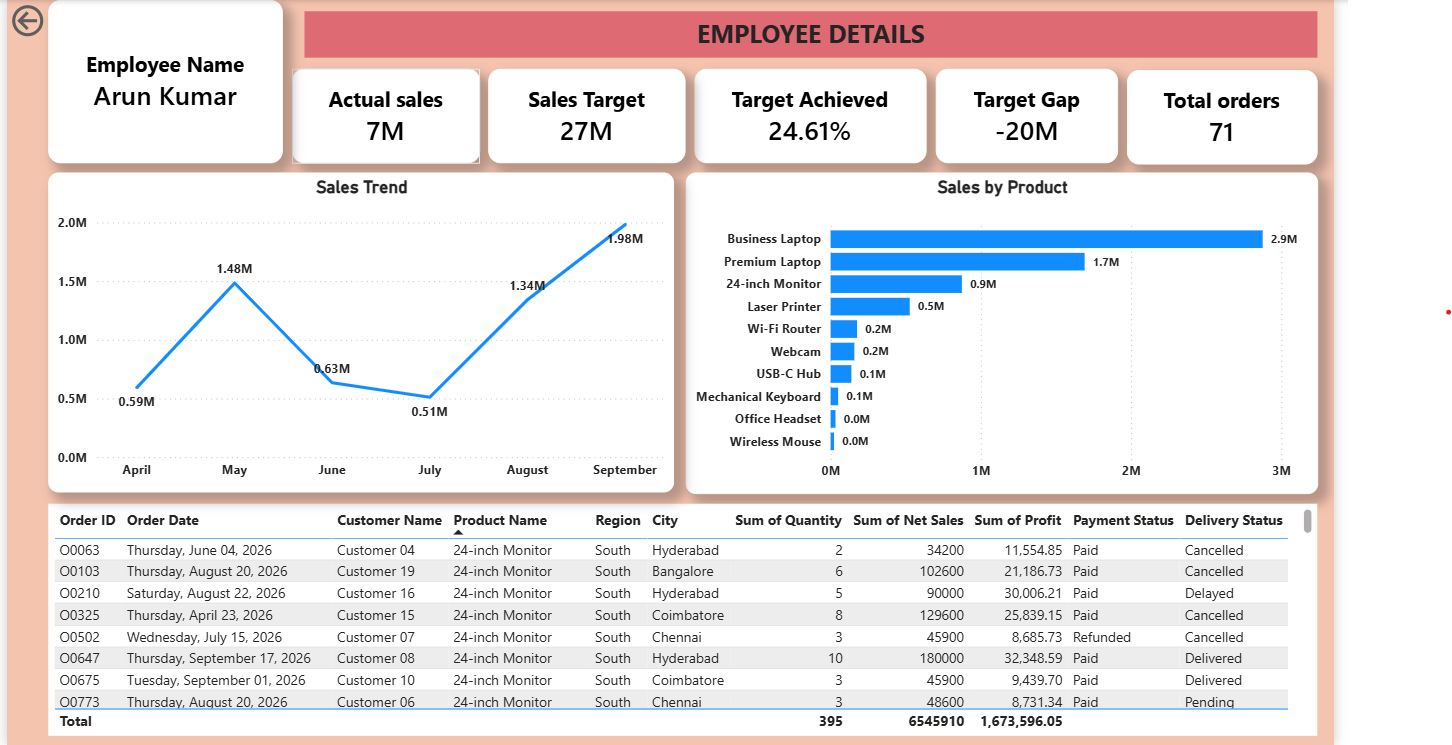

The dashboard page shown, as its layout file describes it:
{"tool":"powerbi","page":{"name":"Employee Details","canvas":[1280,720],"ordinal":4},"visuals":[{"type":"actionButton","box":[0,0,100,40],"z":0},{"type":"cardVisual","title":"NET SALES","fields":{"Data":["Measure.Actual sales"]},"box":[275,66.2,181.2,91.2],"z":1000},{"type":"cardVisual","title":"NET SALES","fields":{"Data":["Measure.Target Achievement %"]},"box":[663.8,66.2,223.8,91.2],"z":2000},{"type":"cardVisual","title":"NET SALES","fields":{"Data":["Measure.Total sales Target"]},"box":[465,66.2,190,91.2],"z":3000},{"type":"cardVisual","title":"NET SALES","fields":{"Data":["Measure.Target Gap"]},"box":[896.2,66.2,176.2,91.2],"z":4000},{"type":"cardVisual","title":"NET SALES","fields":{"Data":["Measure.Total orders"]},"box":[1081.2,67.5,183.8,91.2],"z":5000},{"type":"clusteredBarChart","title":"Sales by Product","fields":{"Category":["DimProduct.Product Name"],"Y":["Measure.Actual sales"]},"box":[655,166.2,610,310],"z":6000},{"type":"tableEx","fields":{"Values":["FactSales.Order ID","FactSales.Order Date","DimCustomer.Customer Name","DimProduct.Product Name","FactSales.Region","FactSales.City","Sum(FactSales.Quantity)","Sum(FactSales.Net Sales)","Sum(FactSales.Profit)","FactSales.Payment Status","FactSales.Delivery Status"]},"box":[40,486.2,1225,223.8],"z":7000},{"type":"cardVisual","fields":{"Data":["Min(DimEmployee.Employee Name)"]},"box":[40,0,226.2,157.5],"z":8000},{"type":"lineChart","title":"Sales Trend","fields":{"Category":["DimDate.Year Month.Variation.Date Hierarchy.Month"],"Y":["Measure.Actual sales"]},"box":[40,166.2,603.8,308.8],"z":9000},{"type":"textbox","box":[287.5,11.2,977.5,45],"z":10000}]}

Visuals, with their boxes on the page's 1280x720 design canvas (x1, y1, x2, y2). These are canvas units, not pixel positions in the 1452x745 screenshot, which may show the page scaled, cropped or inside an application window:
actionButton: rect(0, 0, 100, 40)
"NET SALES" cardVisual: rect(275, 66, 456, 157)
"NET SALES" cardVisual: rect(664, 66, 888, 157)
"NET SALES" cardVisual: rect(465, 66, 655, 157)
"NET SALES" cardVisual: rect(896, 66, 1072, 157)
"NET SALES" cardVisual: rect(1081, 68, 1265, 159)
"Sales by Product" clusteredBarChart: rect(655, 166, 1265, 476)
tableEx - FactSales.Order ID x FactSales.Order Date: rect(40, 486, 1265, 710)
cardVisual - Min(DimEmployee.Employee Name): rect(40, 0, 266, 158)
"Sales Trend" lineChart: rect(40, 166, 644, 475)
textbox: rect(288, 11, 1265, 56)
